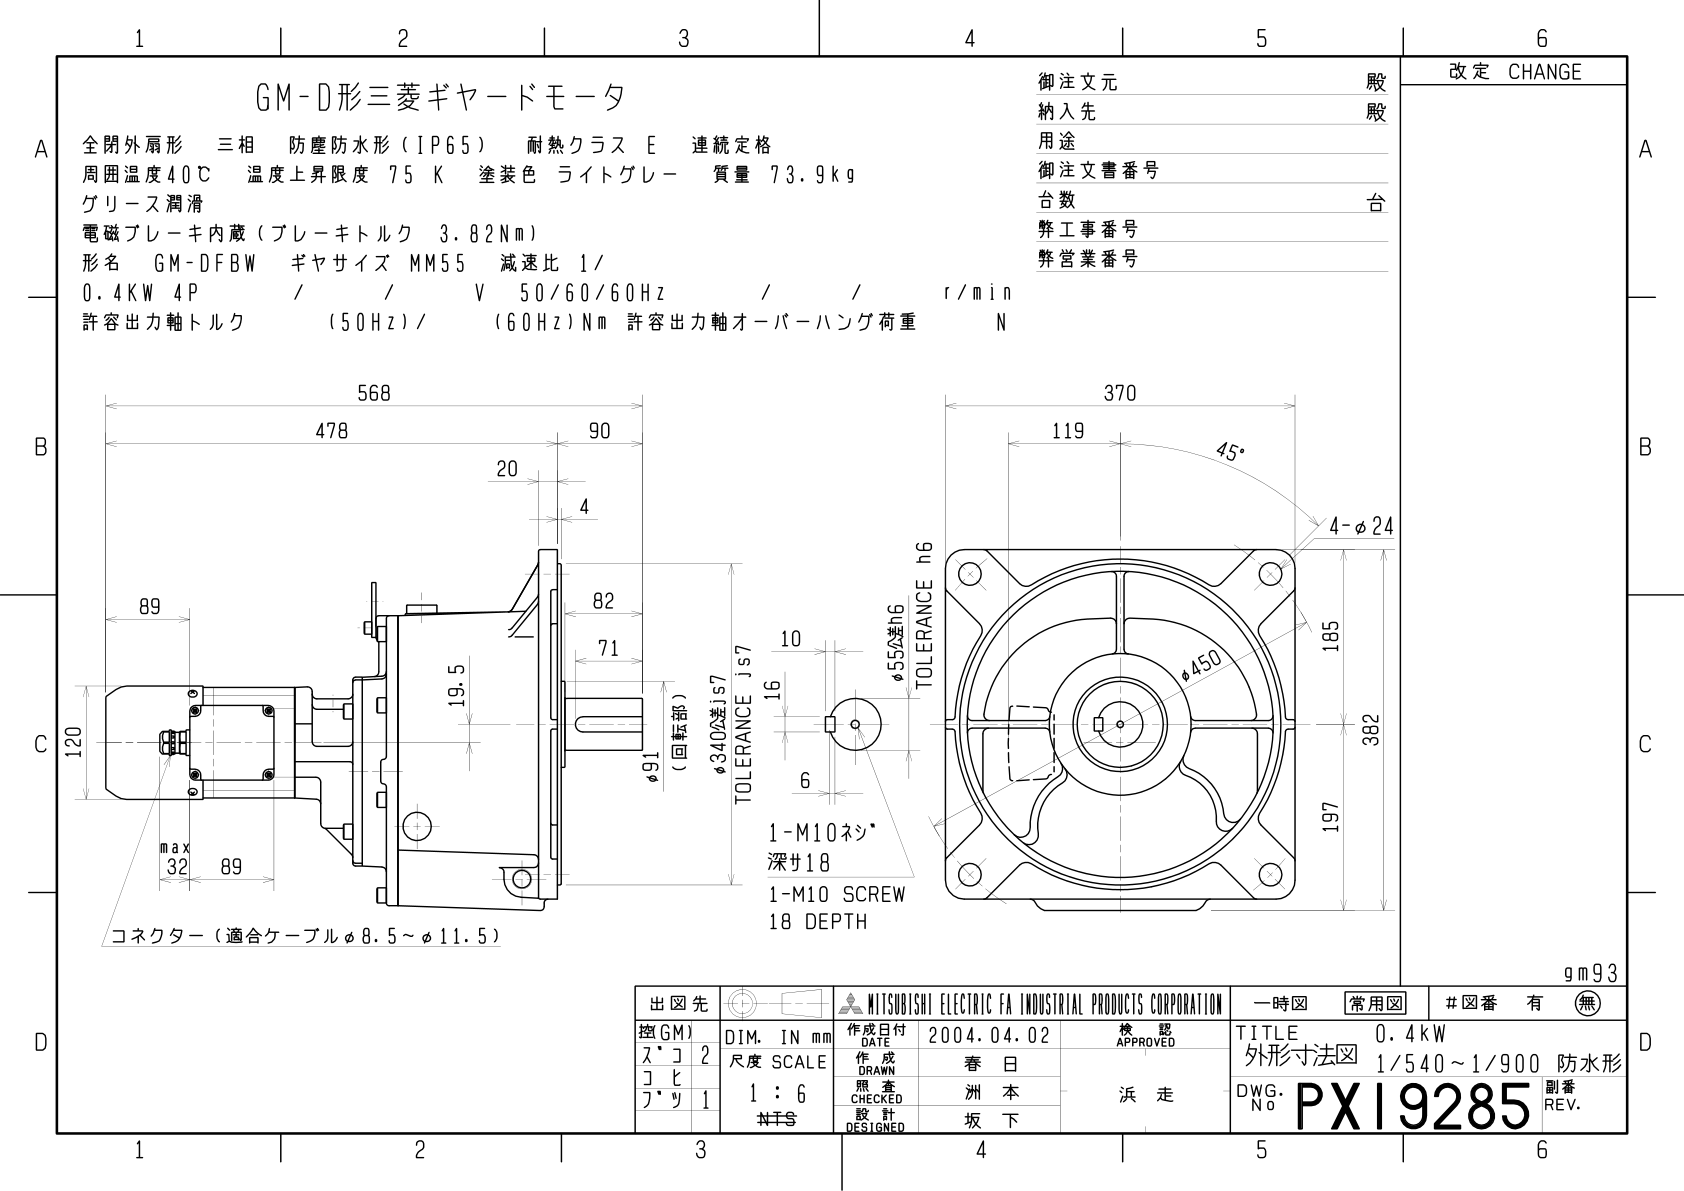GM_D_IP65_三相_フランジ: (61, 360, 1393, 956)
